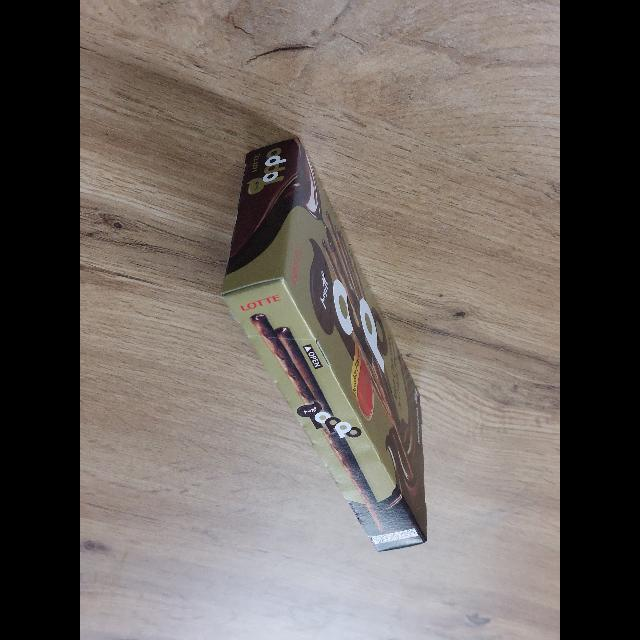banh_toppo_socola: (222, 137, 429, 552)
